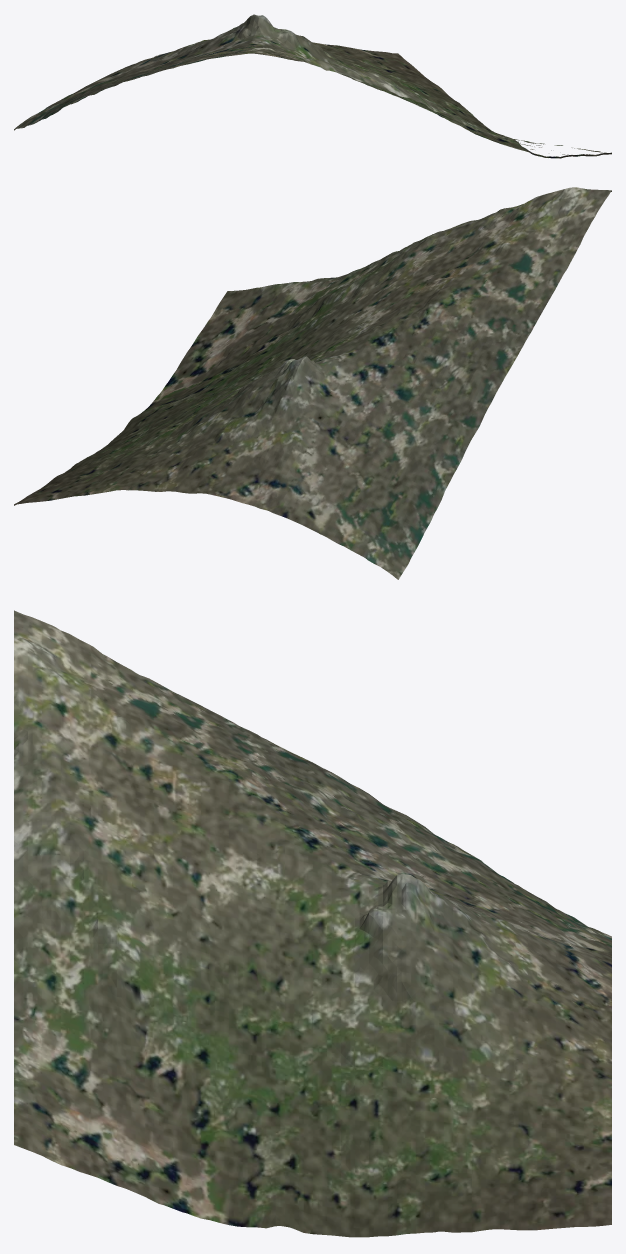
3 views of the same model, one above another, from view 1: azimuth 30°, elevation 25°; view 2: azimuth 150°, elevation 25°; view 3: azimuth 270°, elevation 25° (orthographic). The views are drawn at different scales.
Bounding box in the file's own units: 250 × 163 × 241.
Materials: 1 (1 with a texture image).
